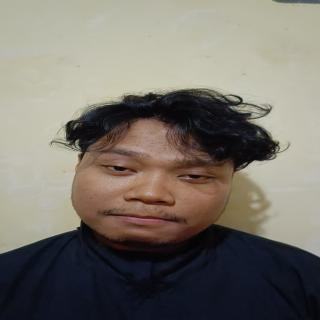Sedih: (57, 116, 240, 252)
